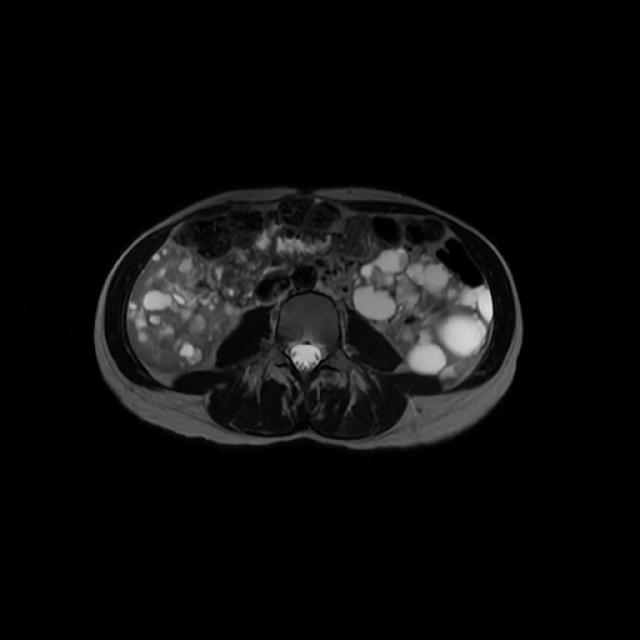sag: (127, 244, 231, 374)
sol: (346, 244, 495, 386)
